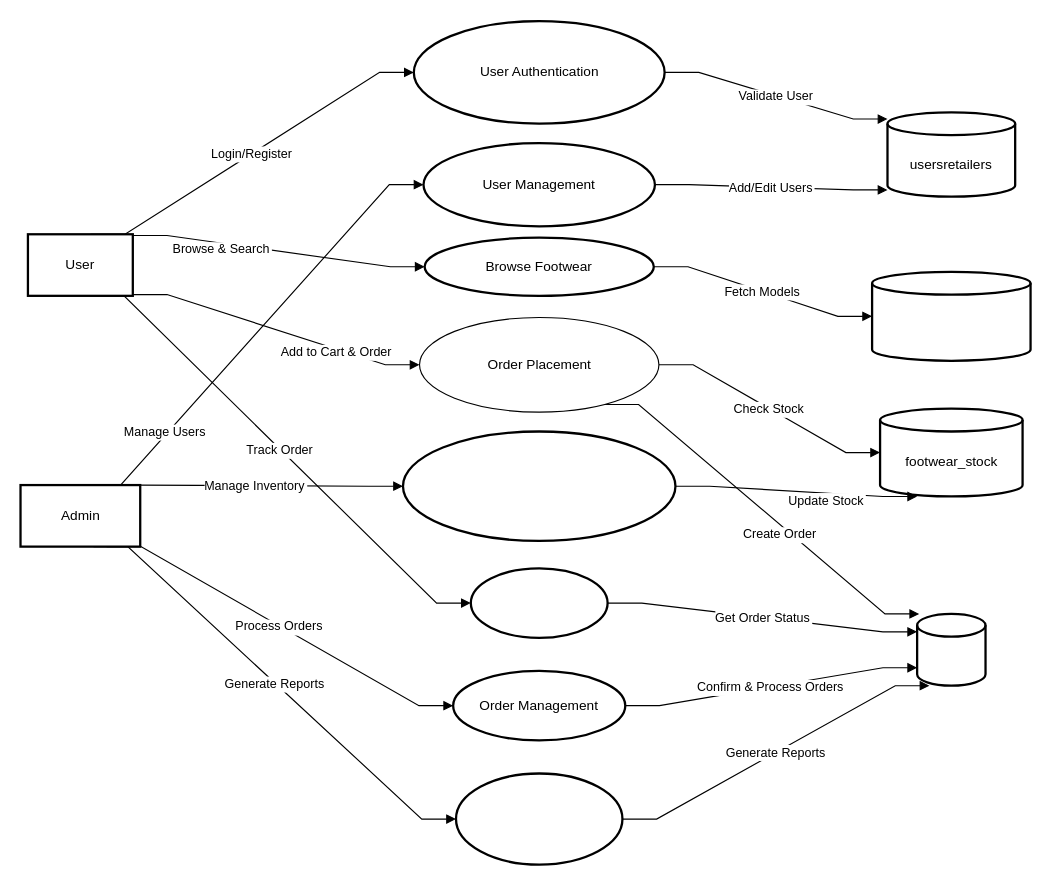
This 1051x885 diagram has some shape labels left out. The shapes that lost their labels are listed below. From the top down, each one's box as (x1, y1, x2, y2) in pixels, then its label:
(870, 270, 1031, 361): footwear_models
(401, 430, 676, 542): Footwear Inventory Management
(469, 567, 608, 638): Order Tracking
(915, 612, 986, 686): orders
(454, 772, 623, 865): Reports & Analysis
